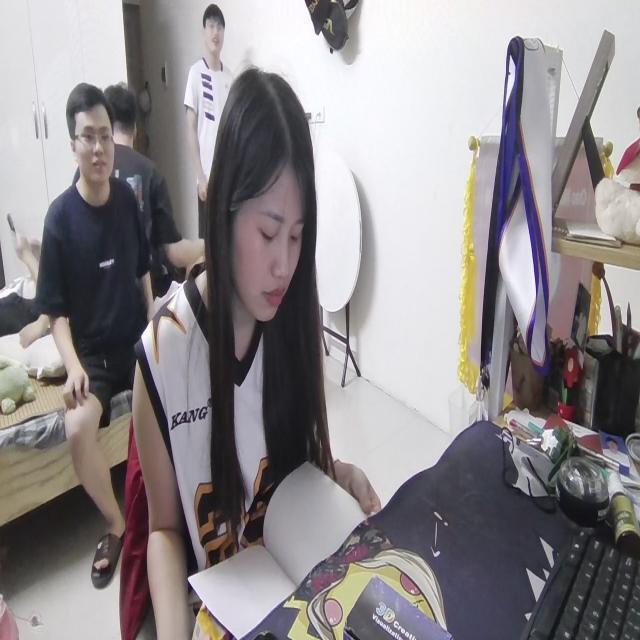book: (176, 452, 366, 632)
extra_person: (42, 85, 151, 550), (186, 12, 233, 234)
student: (131, 59, 384, 640)
